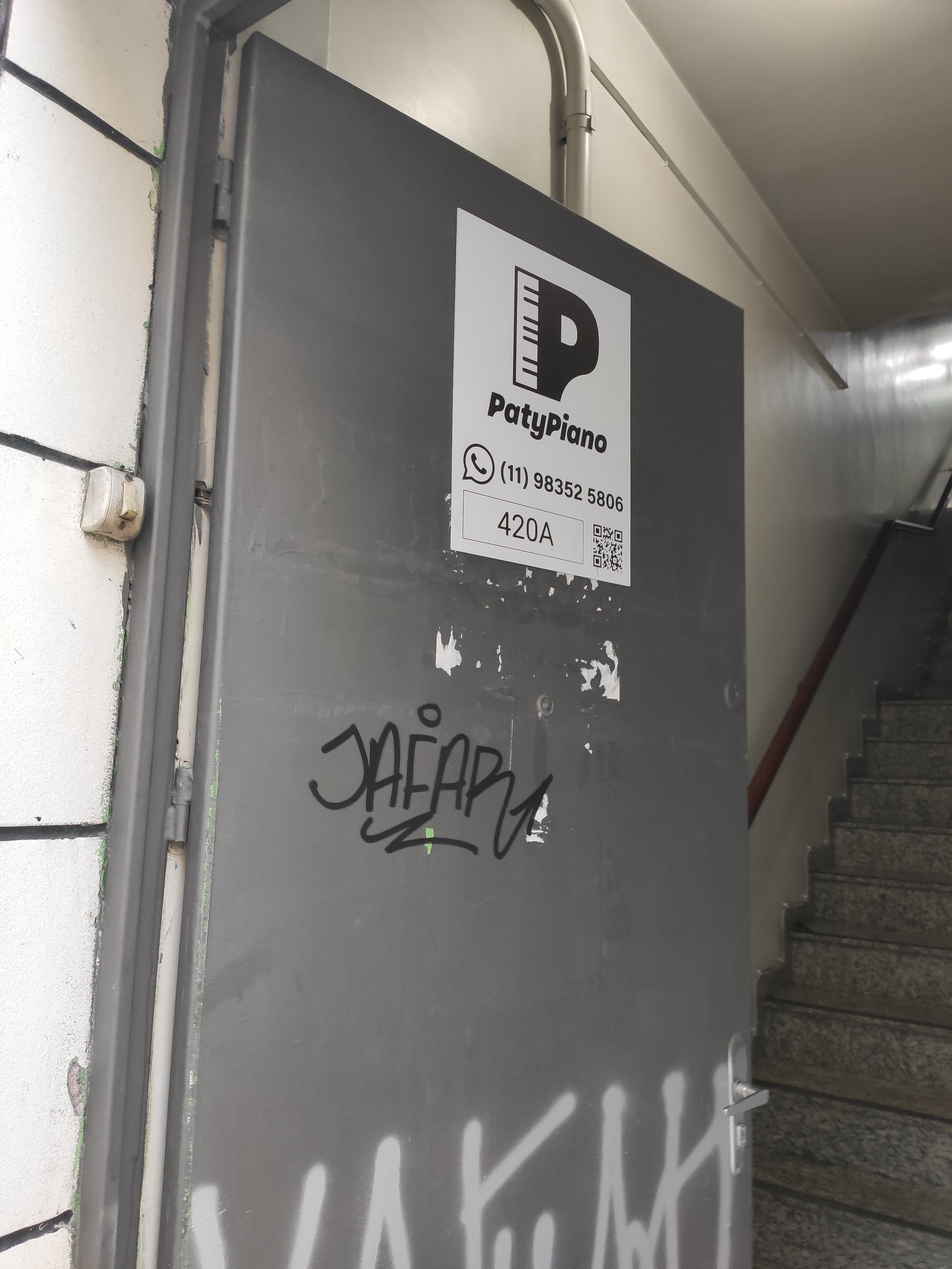QR-CODE: (593, 524, 622, 573)
